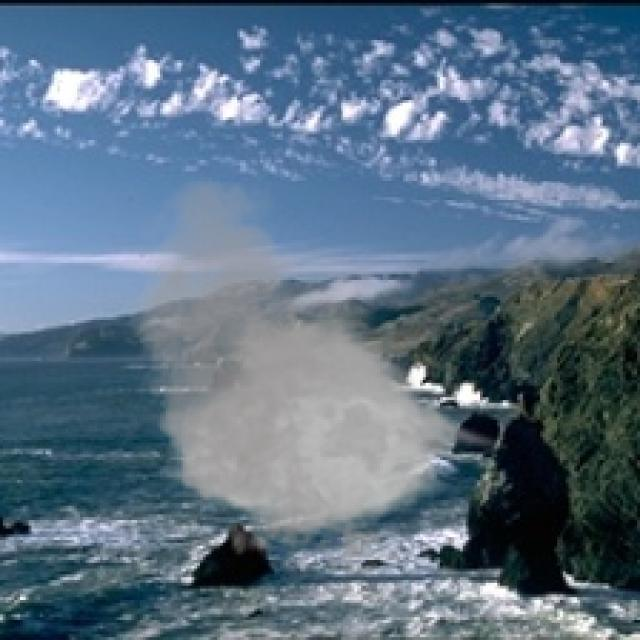Smoke: (117, 171, 509, 583)
